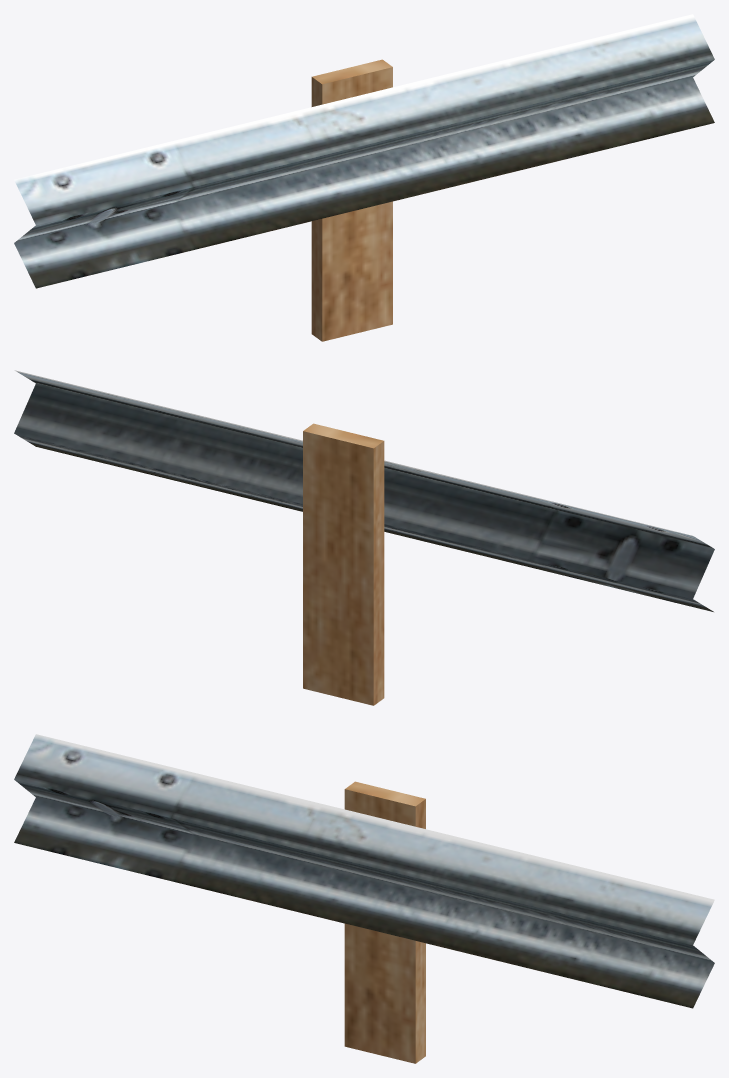
File: des_guard_rail.fbx
The picture shows the model from 3 angles, top to bottom: view 1: azimuth 30°, elevation 25°; view 2: azimuth 150°, elevation 25°; view 3: azimuth 330°, elevation 25°; orthographic projection.
Visible parts, largest first — view 1: guardrail; view 2: guardrail; view 3: guardrail.
Boxes of the visible parts, <box> form: guardrail: <box>14,14,714,341</box>; guardrail: <box>14,370,714,705</box>; guardrail: <box>14,734,714,1063</box>.
Bounding box in the file's own units: 200 × 72.47 × 16.66.
Materials: 1 (1 with a texture image).
